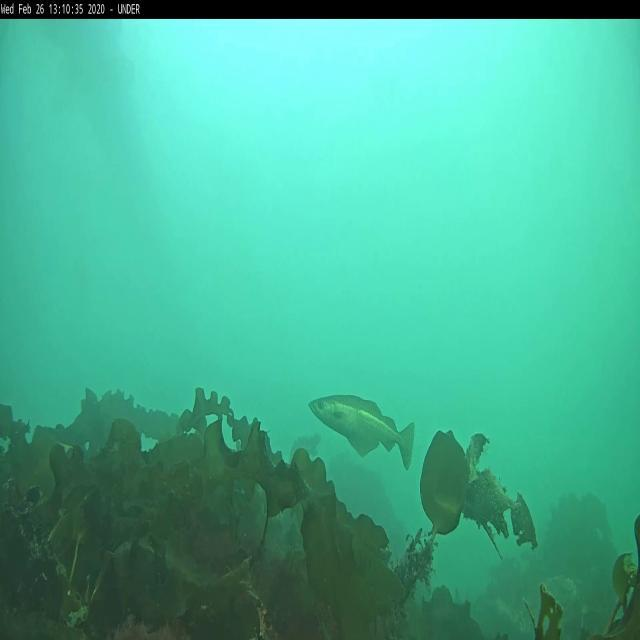fish: (308, 395, 415, 468)
